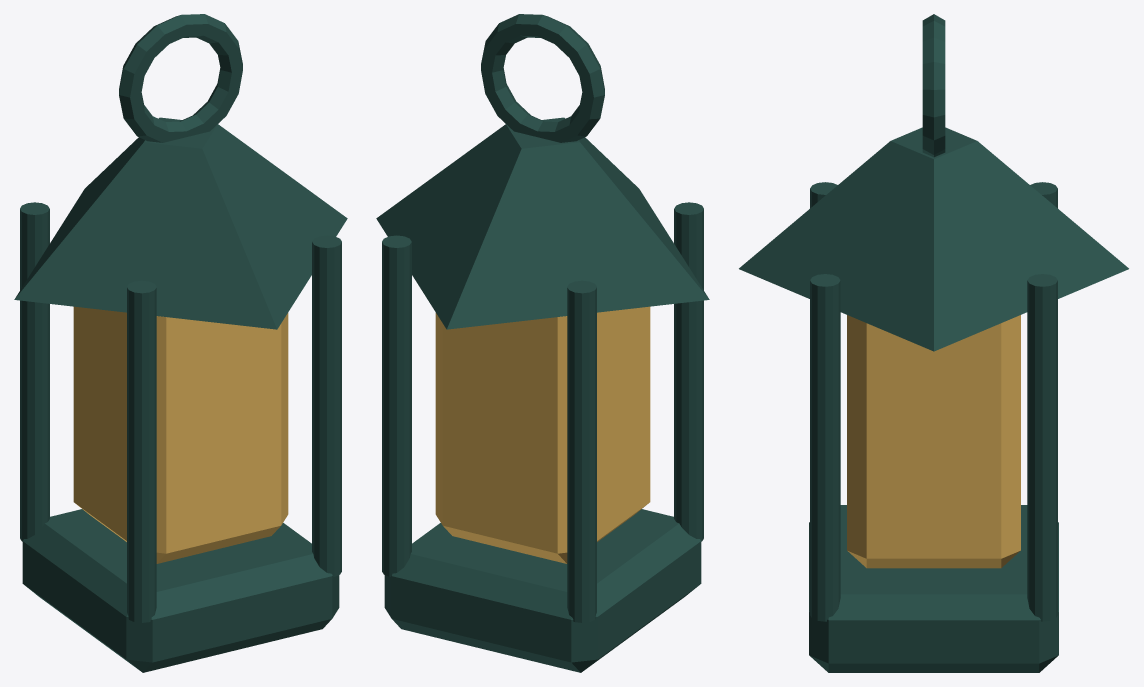
The model's file is market_20_Garden_Lantern.glb.
3 views of the same model, side by side, from view 1: azimuth 30°, elevation 25°; view 2: azimuth 150°, elevation 25°; view 3: azimuth 270°, elevation 25° (orthographic).
Visible parts, largest first — view 1: 20_Garden_Lantern; view 2: 20_Garden_Lantern; view 3: 20_Garden_Lantern.
Boxes of the visible parts, x1,y1,x2,y2 form: 20_Garden_Lantern: (14,14,347,672); 20_Garden_Lantern: (376,14,709,672); 20_Garden_Lantern: (739,14,1128,672).
Size of the model in its own units: 0.36 by 0.617 by 0.36.
